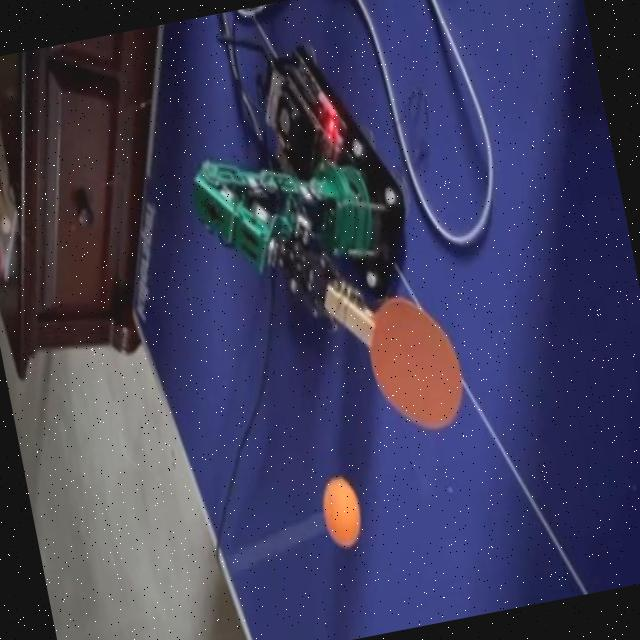ping-pong-ball: (316, 476, 366, 548)
